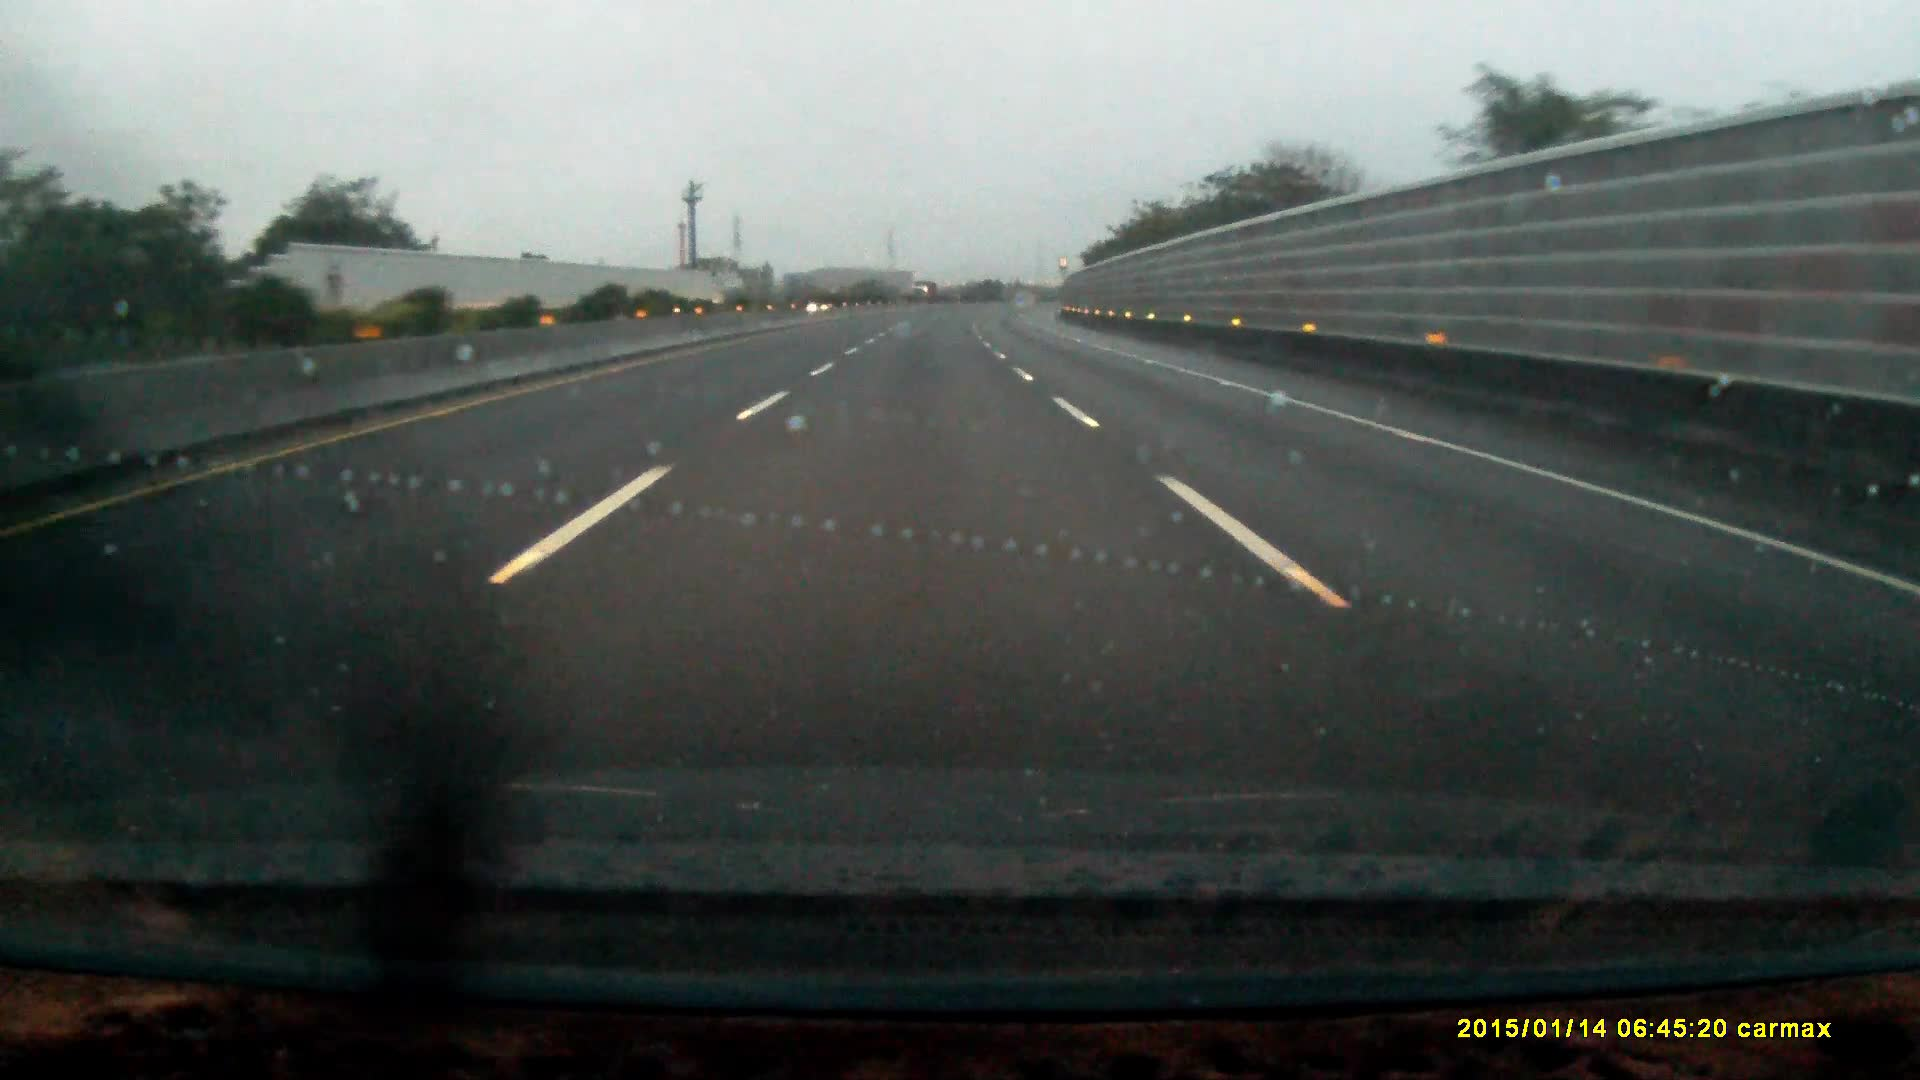vehicle: (911, 280, 938, 301)
